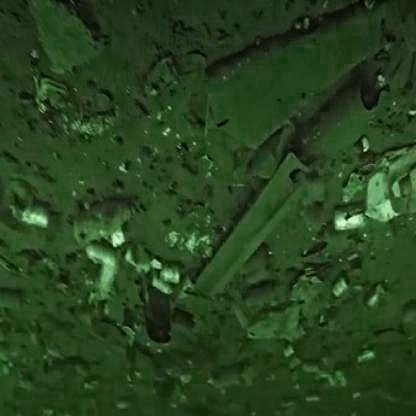can: (15, 199, 64, 247), (81, 238, 121, 280), (362, 274, 393, 317), (333, 206, 374, 238), (330, 271, 350, 303), (159, 262, 187, 283)
